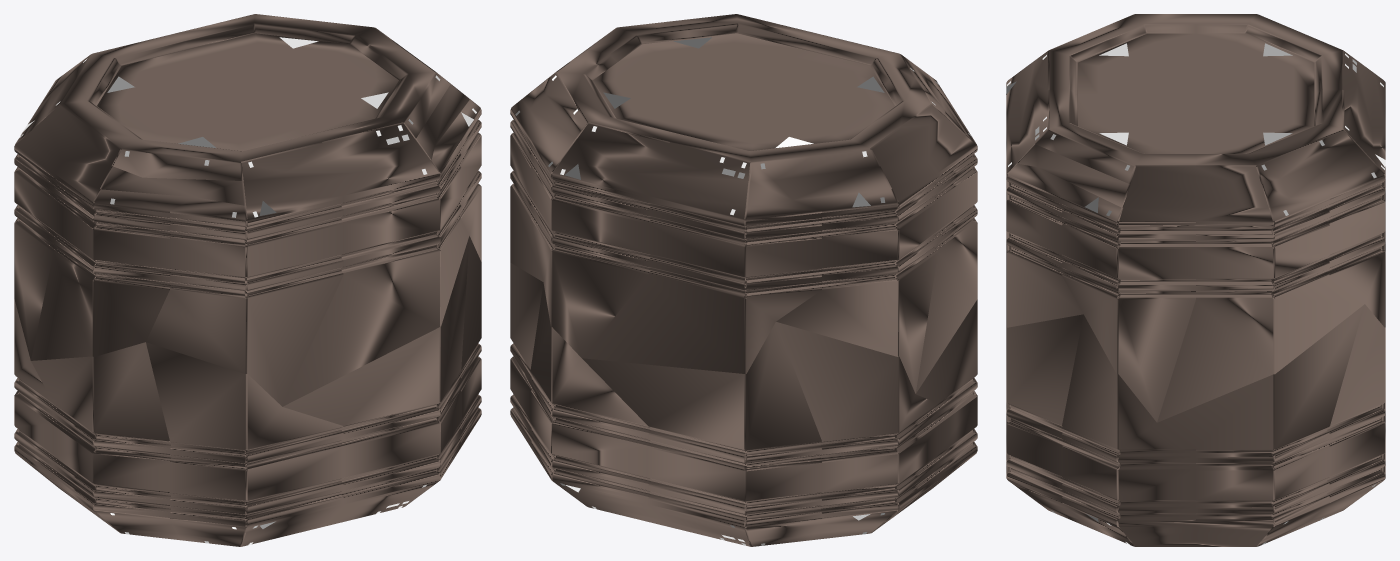
Rendered from lorville_city_plating_wall_base_a.glb.
3 views of the same model, side by side, from view 1: azimuth 30°, elevation 25°; view 2: azimuth 150°, elevation 25°; view 3: azimuth 270°, elevation 25° (orthographic).
Size of the model in its own units: 78.03 by 74.09 by 66.63.
